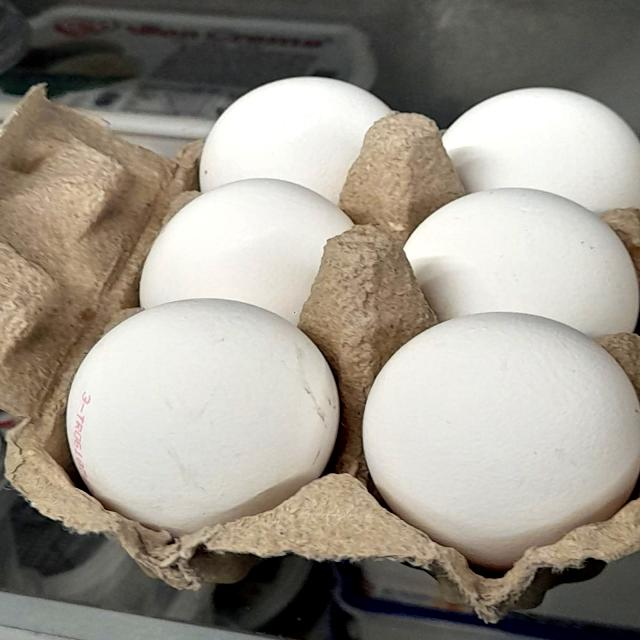egg: (357, 303, 640, 576), (57, 297, 347, 537), (393, 174, 640, 339)
